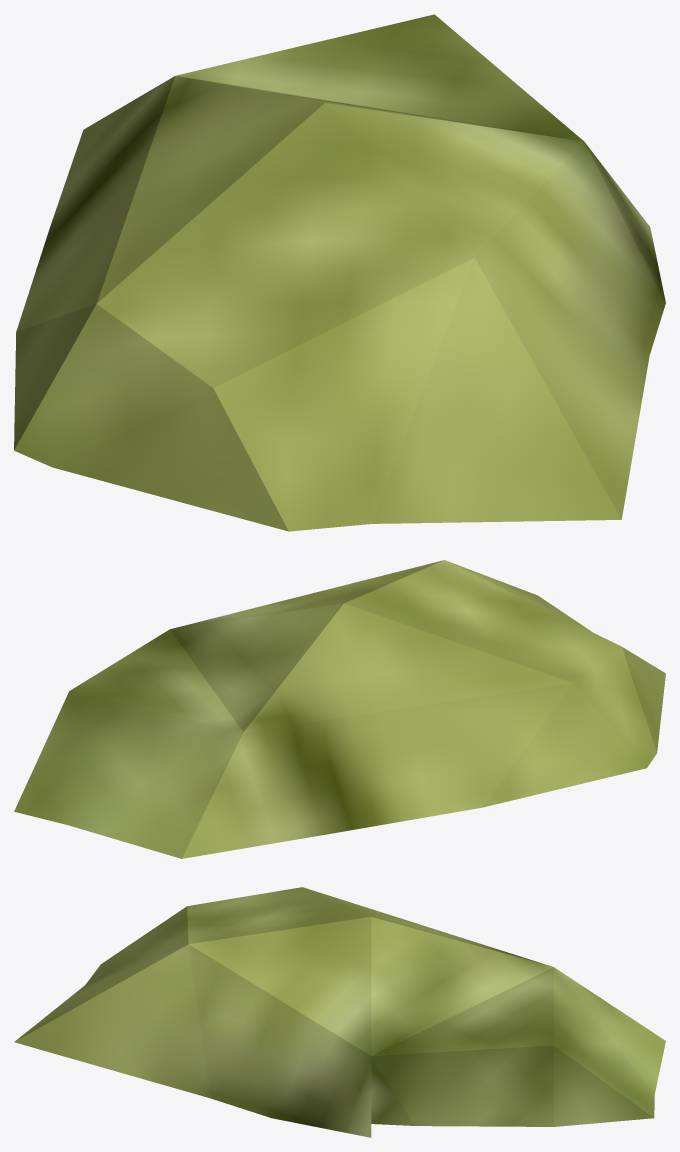
3 views of the same model, one above another, from view 1: azimuth 30°, elevation 25°; view 2: azimuth 150°, elevation 25°; view 3: azimuth 270°, elevation 25° (orthographic). The views are drawn at different scales.
Size of the model in its own units: 0.2107 by 0.058 by 0.2761.
Materials: 1 (1 with a texture image).
